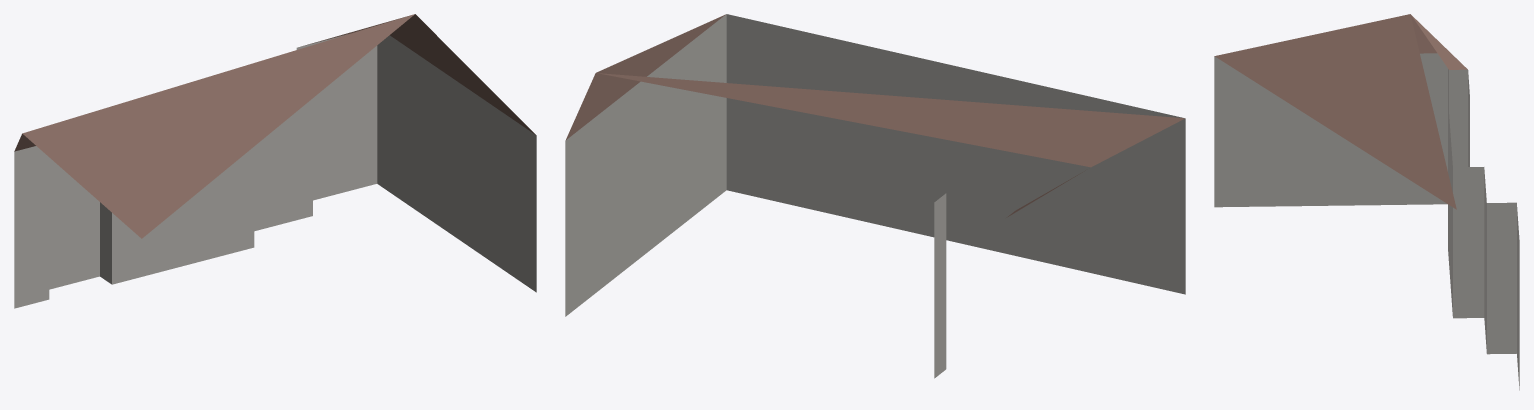
File: c_1633_17830_buildings_civic.glb
3 renders of one model, left to right at view 1: azimuth 30°, elevation 25°; view 2: azimuth 150°, elevation 25°; view 3: azimuth 270°, elevation 25°, orthographic. The views are drawn at different scales.
Parts seen in each view (by area): view 1: geometry_0; view 2: geometry_0; view 3: geometry_0.
Boxes of the visible parts, x1,y1,x2,y2 form: geometry_0: [14, 14, 536, 308]; geometry_0: [565, 14, 1185, 378]; geometry_0: [1214, 14, 1519, 390].
Size of the model in its own units: 41.94 by 18.36 by 27.46.
